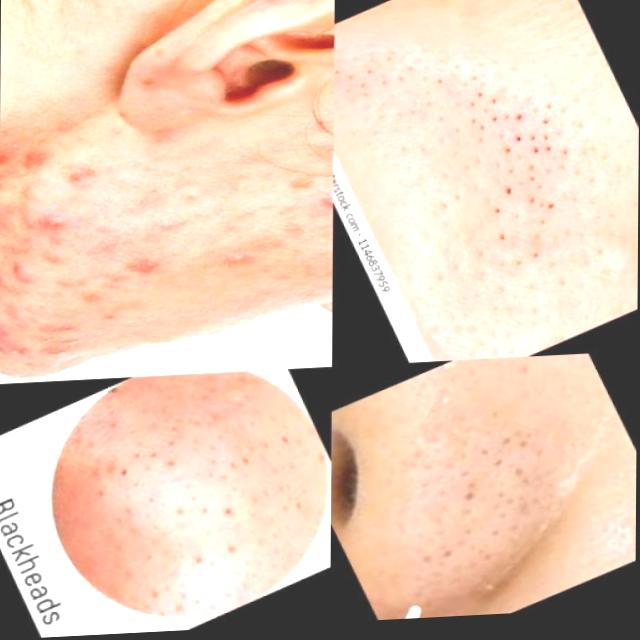7: (418, 385, 476, 441)
9: (202, 247, 264, 282), (467, 577, 518, 619), (28, 210, 74, 244), (300, 186, 332, 229)
blackheads: (109, 247, 180, 295), (29, 330, 85, 369)
dark spot: (333, 36, 430, 132), (469, 427, 543, 490), (455, 81, 523, 145), (410, 53, 474, 118), (522, 121, 580, 186), (133, 433, 197, 491), (480, 481, 543, 539), (217, 437, 273, 501), (516, 180, 572, 240), (411, 542, 472, 593), (501, 239, 555, 293), (498, 144, 550, 198), (473, 202, 523, 258), (524, 91, 574, 144), (442, 468, 491, 522), (100, 503, 145, 546), (489, 125, 529, 163), (209, 497, 250, 531), (217, 538, 251, 577), (270, 426, 309, 459), (177, 549, 212, 584), (100, 463, 139, 493), (160, 504, 194, 535), (0, 277, 16, 314), (496, 184, 520, 206)
